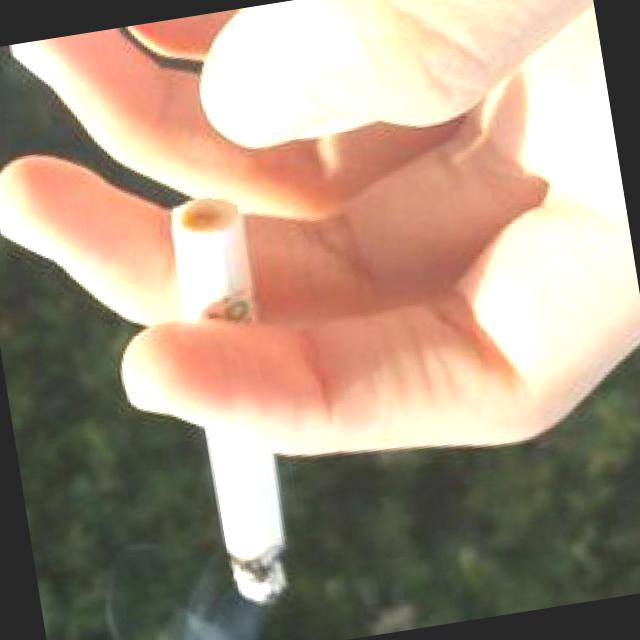smoke: (136, 190, 340, 621)
